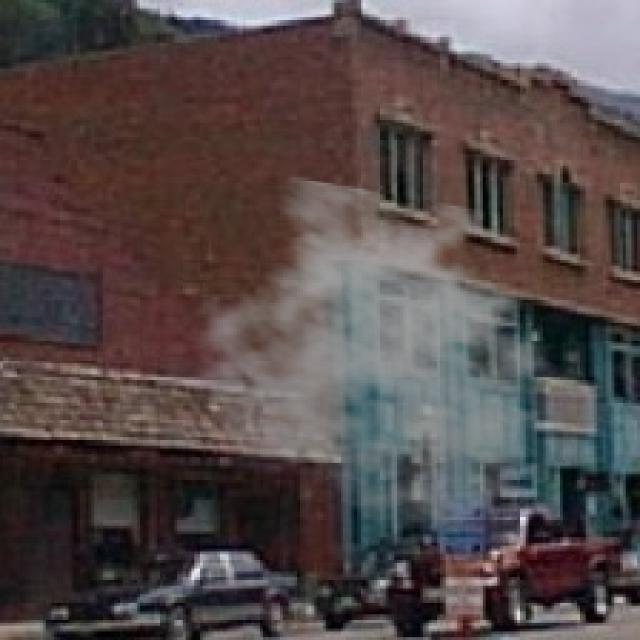Smoke: (177, 174, 592, 537)
